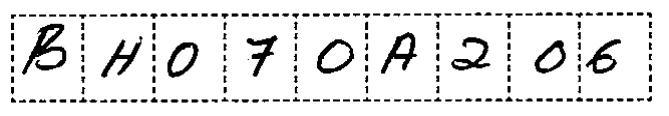0: (310, 33, 358, 82), (162, 38, 203, 84), (531, 33, 570, 79)
2: (449, 32, 493, 75)
6: (585, 36, 626, 76)
7: (235, 30, 284, 81)
A: (376, 27, 426, 79)
B: (21, 21, 72, 77)
H: (99, 34, 146, 80)
